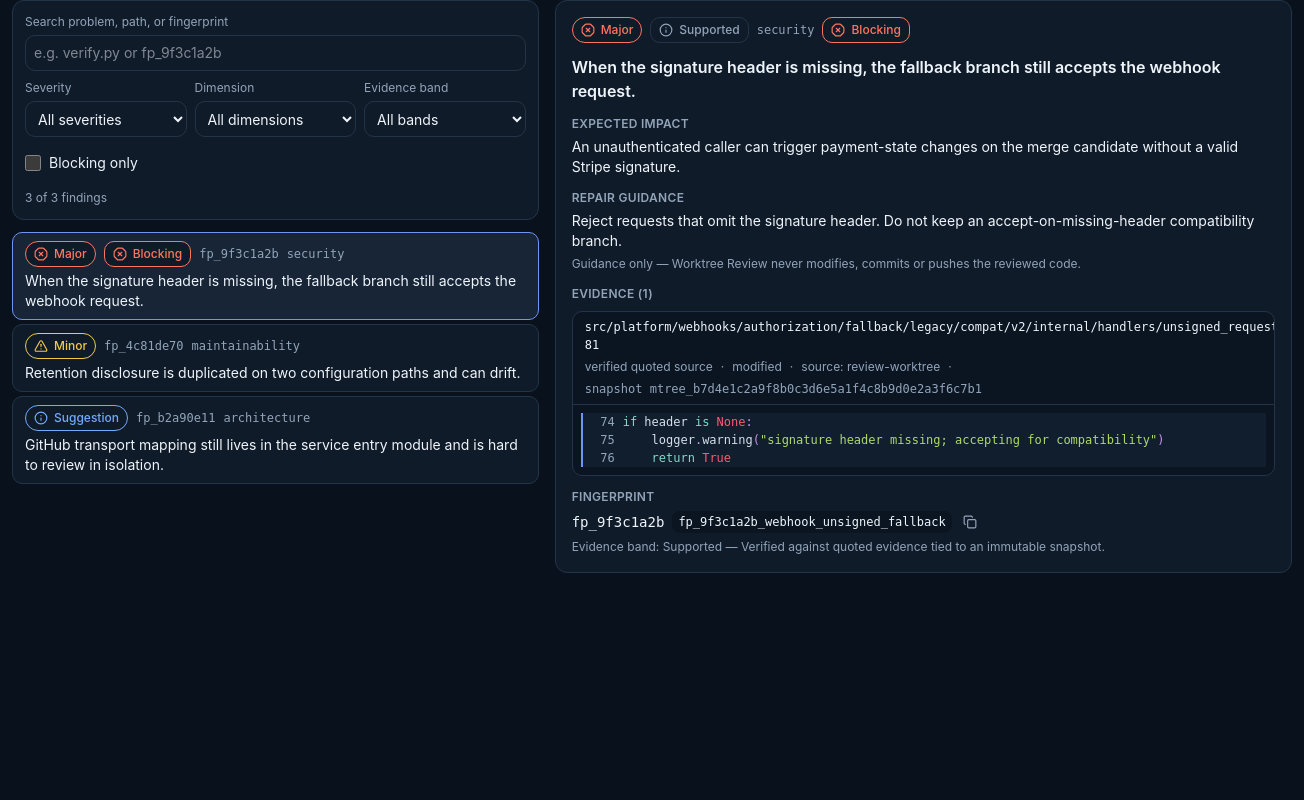
Test: FindingsTab master list › shows an empty-filter result without touching the gate
Step 1. Type "nothing-matches-this" into the search field labelled "Search problem, path, or fingerprint" → [275, 53], box [25,35,526,71]
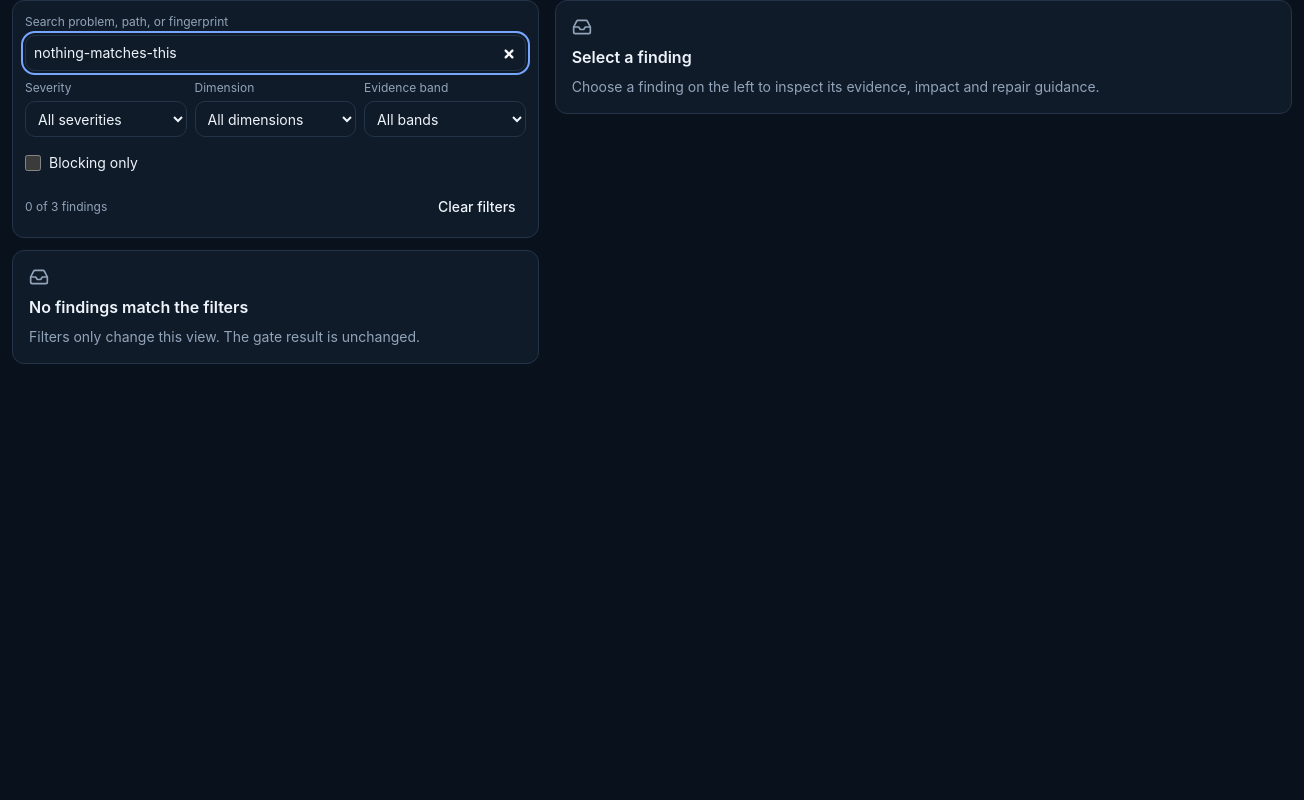
expect the heading "No findings match the filters" is shown: met, box [29,295,248,319]
expect the text "Filters only change this view. The gate result is unchanged." is shown: met, box [29,327,420,347]
expect the button "Clear filters" is shown: met, box [428,189,526,225]
